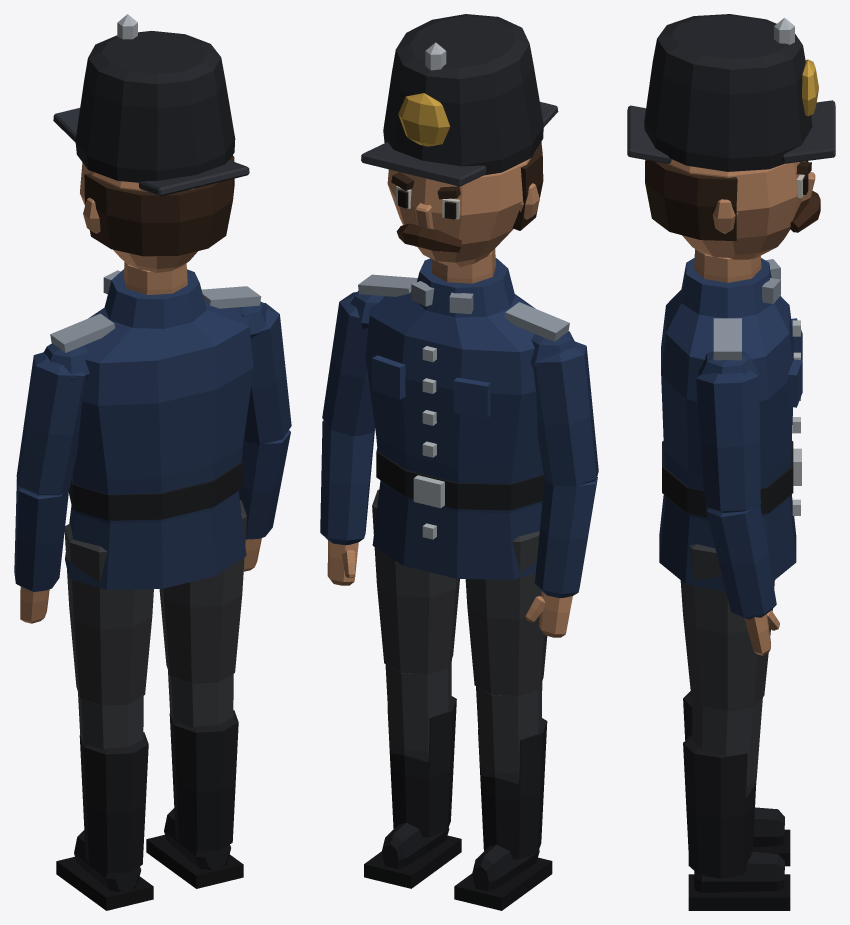
The model's file is chr_police.glb.
The picture shows the model from 3 angles, left to right: view 1: azimuth 30°, elevation 25°; view 2: azimuth 150°, elevation 25°; view 3: azimuth 270°, elevation 25°; orthographic projection.
Parts seen in each view (by area): view 1: chr_police_stand; view 2: chr_police_stand; view 3: chr_police_stand.
Part boxes in pixels (x1=…): chr_police_stand: x1=14, y1=14, x2=291, y2=910; chr_police_stand: x1=320, y1=14, x2=598, y2=910; chr_police_stand: x1=627, y1=14, x2=835, y2=910.
Size of the model in its own units: 0.5886 by 1.78 by 0.3915.
